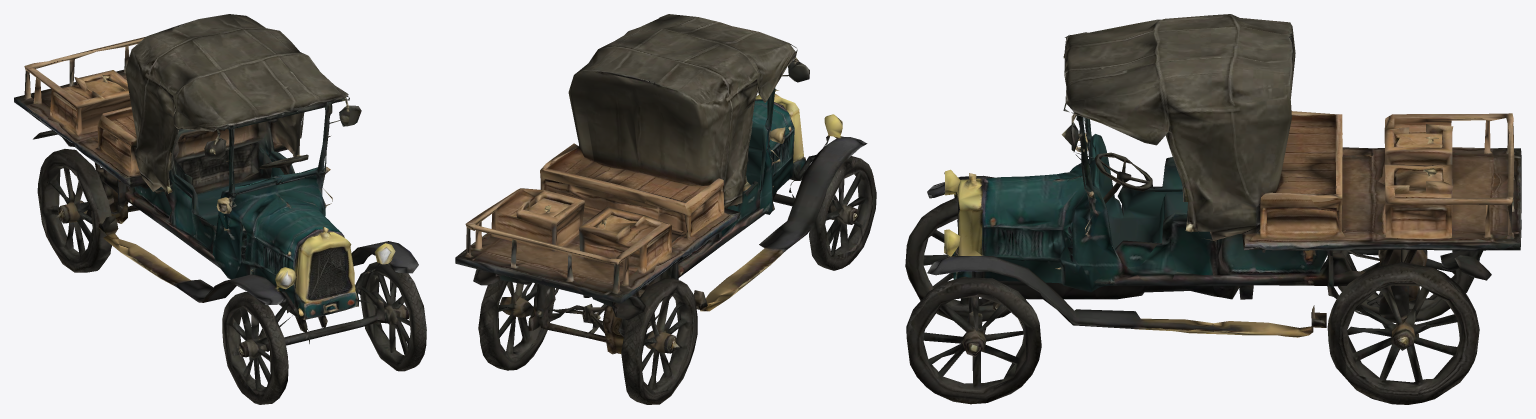
The model's file is banana-lorry.glb.
3 views of the same model, side by side, from view 1: azimuth 30°, elevation 25°; view 2: azimuth 150°, elevation 25°; view 3: azimuth 270°, elevation 25° (orthographic). The views are drawn at different scales.
Visible parts, largest first — view 1: tripo_node_527992a1-49d5-4ce2-8e51-f9fe54bf174a; view 2: tripo_node_527992a1-49d5-4ce2-8e51-f9fe54bf174a; view 3: tripo_node_527992a1-49d5-4ce2-8e51-f9fe54bf174a.
Boxes of the visible parts, x1,y1,x2,y2 form: tripo_node_527992a1-49d5-4ce2-8e51-f9fe54bf174a: [14, 14, 426, 404]; tripo_node_527992a1-49d5-4ce2-8e51-f9fe54bf174a: [455, 14, 876, 404]; tripo_node_527992a1-49d5-4ce2-8e51-f9fe54bf174a: [905, 14, 1521, 404].
Bounding box in the file's own units: 0.3853 × 0.5659 × 0.9786.
Materials: 1 (1 with a texture image).
